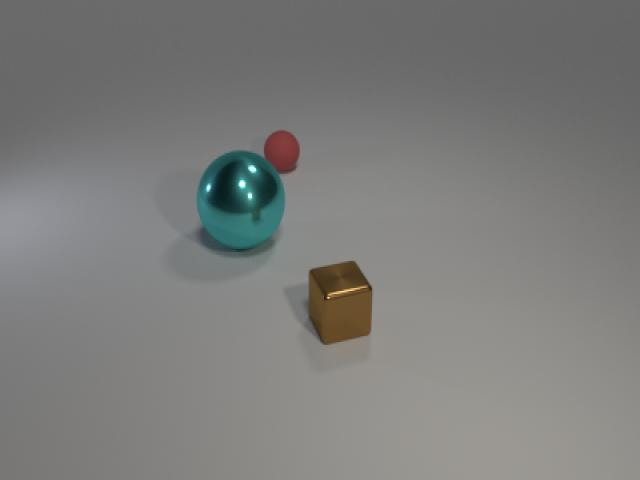round ball: (196, 150, 287, 253), (263, 130, 303, 176)
